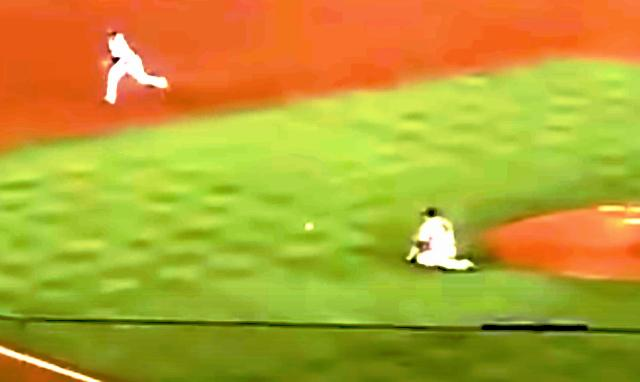jatuh: (397, 198, 481, 284)
